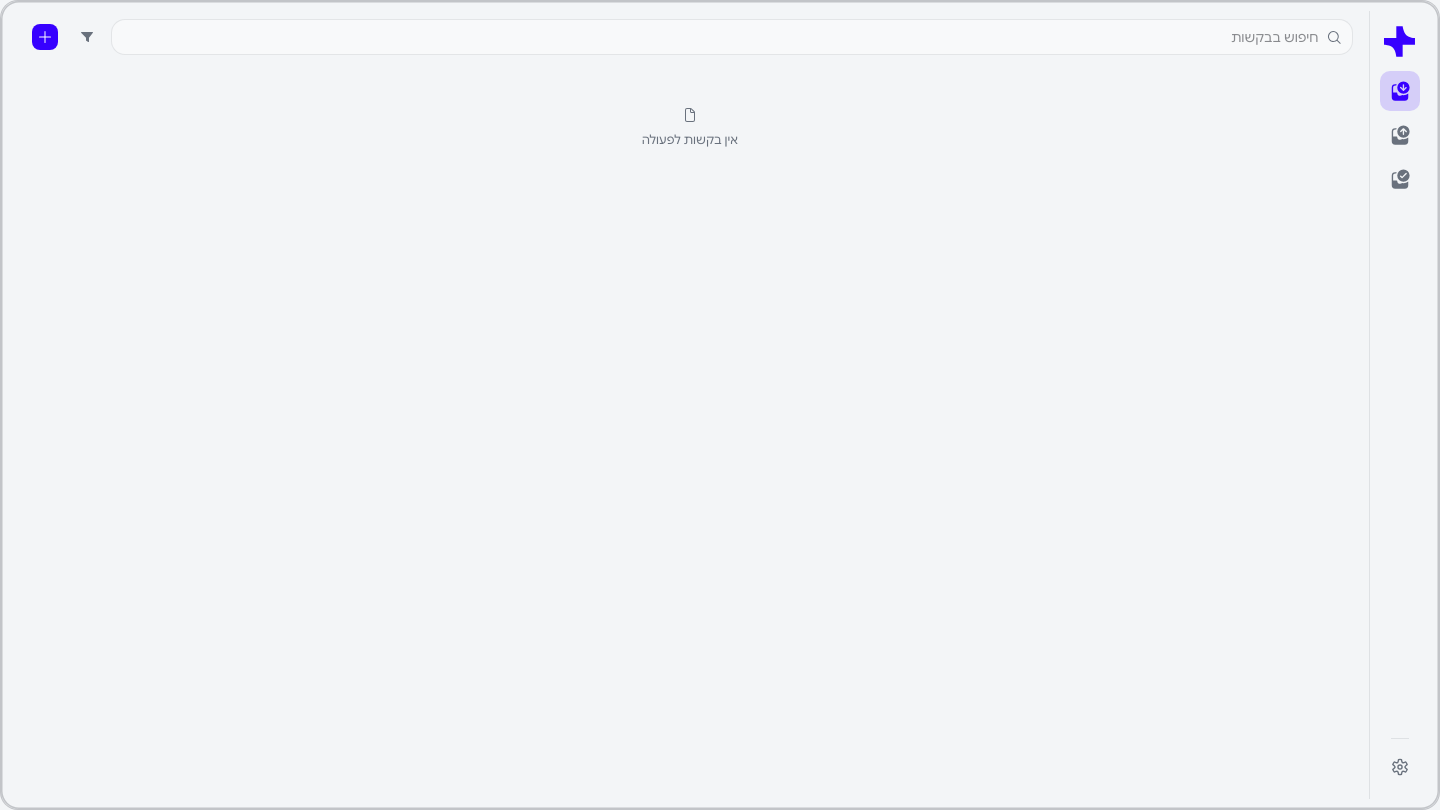
Test: external link compose UI › reuses the same compose shell as send and request
The image size is (1440, 810).
Click the button named "בקשה חדשה" at coordinates (45, 37), box [27,19,63,55]
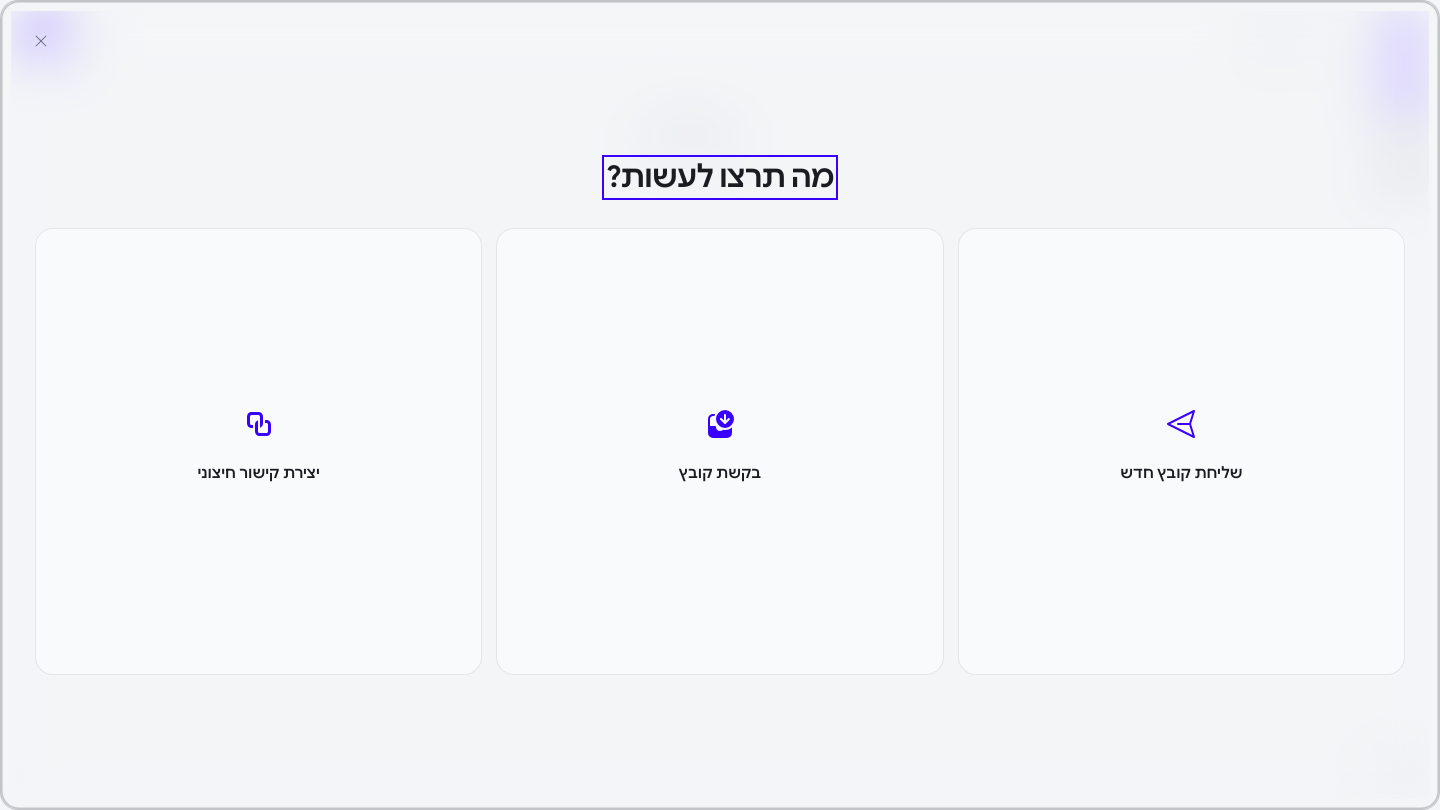
Click the button "יצירת קישור חיצוני" at coordinates (259, 452), box [35,228,482,675]
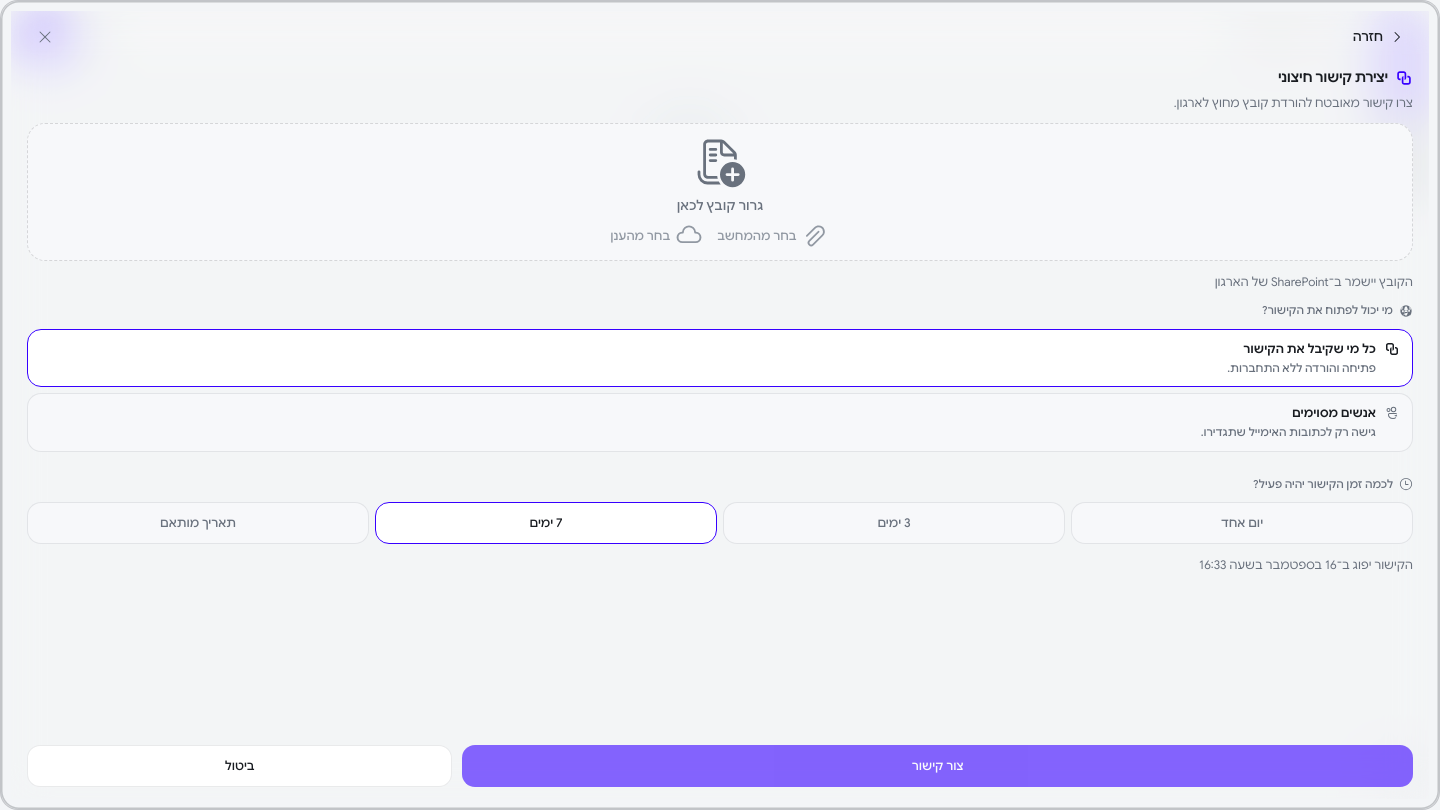
Now the heading "יצירת קישור חיצוני" is shown, box [1278,68,1413,86]
Now the element with class "fr-compose-form-nav" is shown, box [11,11,1429,59]
Now the button "חזרה" is shown, box [1345,21,1413,53]
